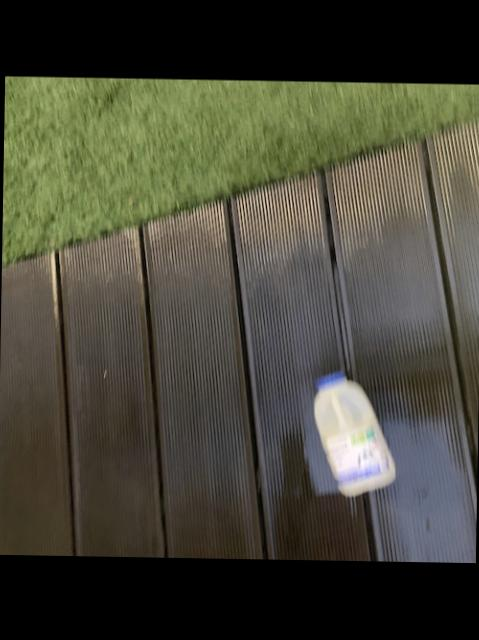plastic: (312, 373, 392, 497)
